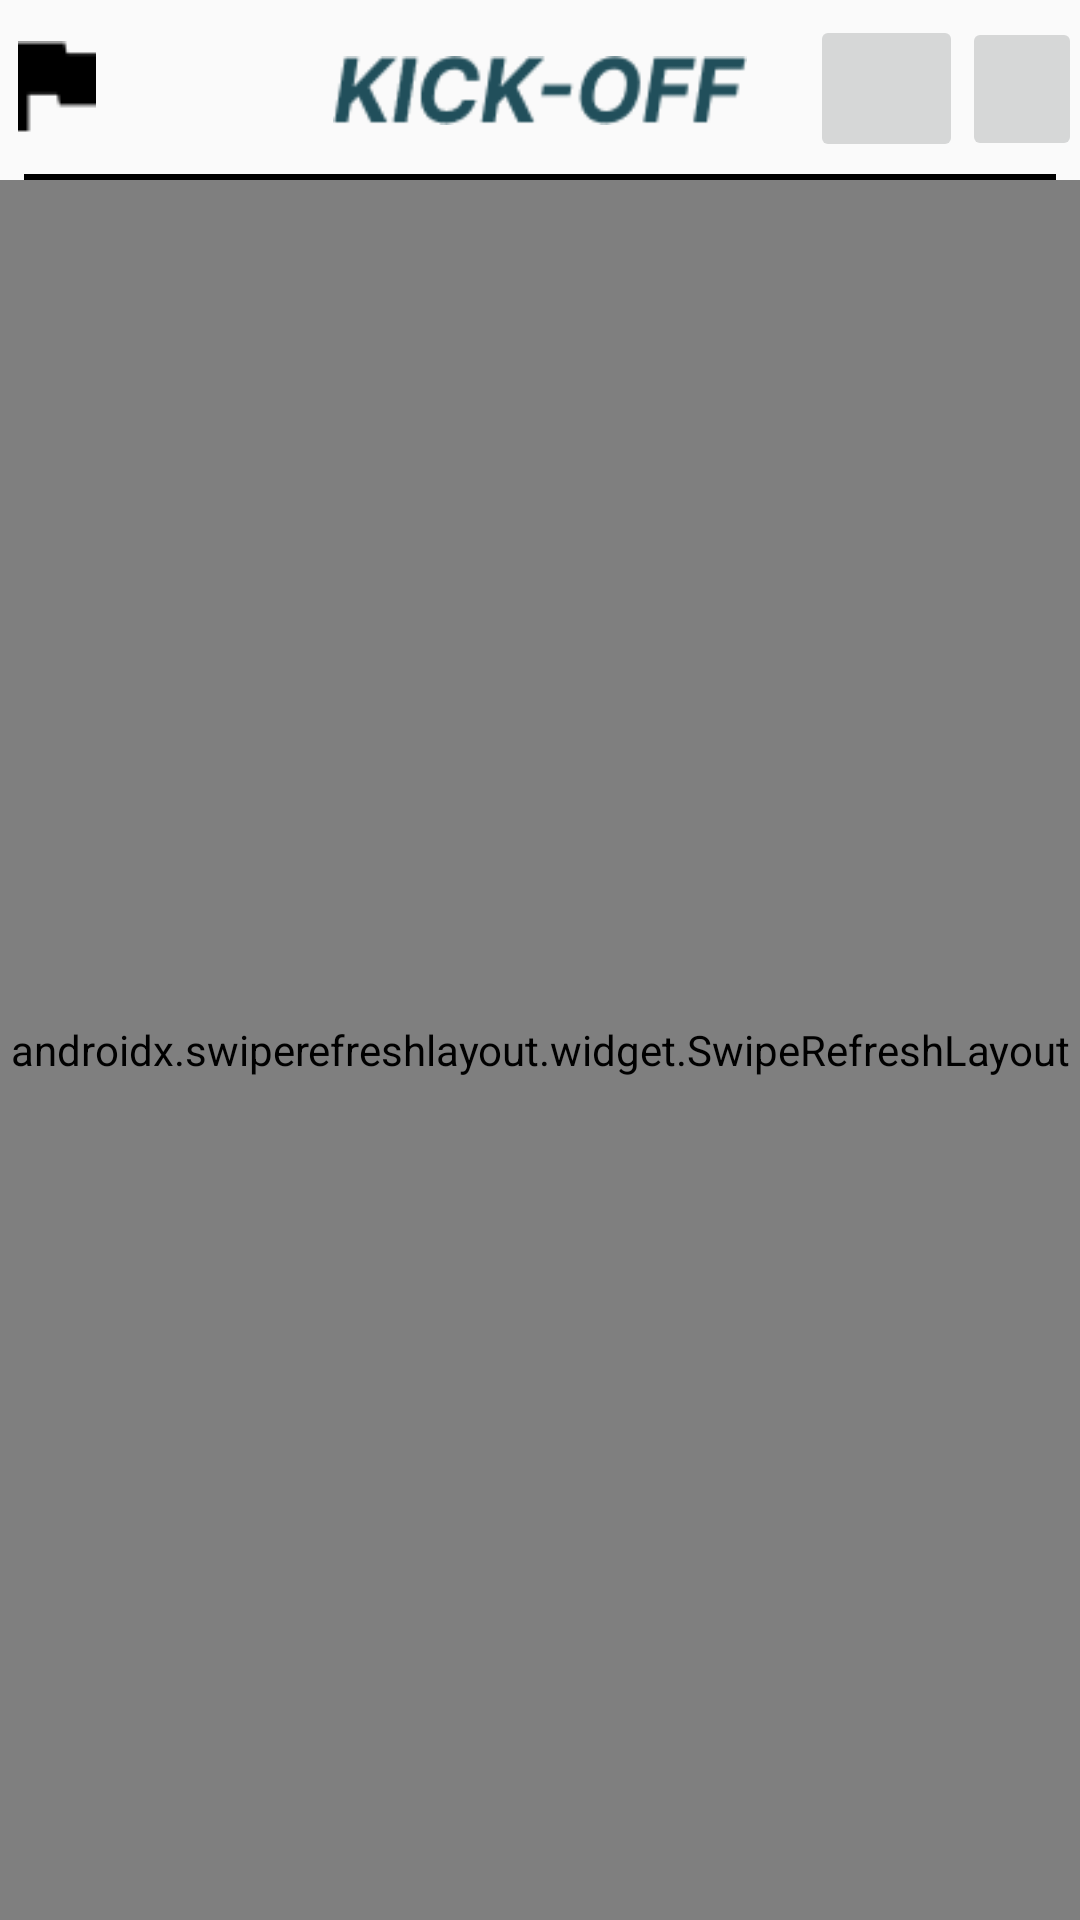

Screen size 1080w x 1920h. Icon name, then its box in pixels as detection(x1, y1, x2, y2):
vectorflag: detection(18, 41, 96, 132)
